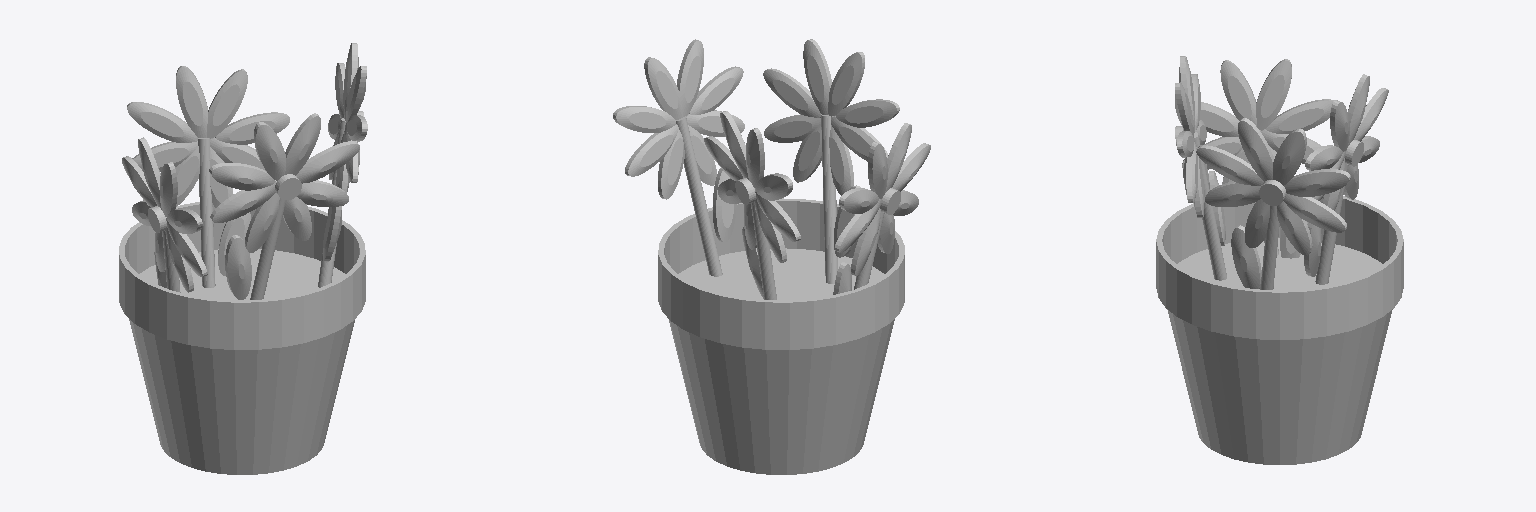
Rendered from Flowers.obj.
The picture shows the model from 3 angles: view 1: azimuth 30°, elevation 25°; view 2: azimuth 150°, elevation 25°; view 3: azimuth 270°, elevation 25°; orthographic projection.
Parts seen in each view (by area): view 1: Flowers.001; view 2: Flowers.001; view 3: Flowers.001.
Part boxes in pixels (left/top/right/bottom): Flowers.001: left=119, top=43, right=367, bottom=474; Flowers.001: left=613, top=39, right=930, bottom=474; Flowers.001: left=1156, top=56, right=1403, bottom=464.
Size of the model in its own units: 2.13 by 3.05 by 1.89.